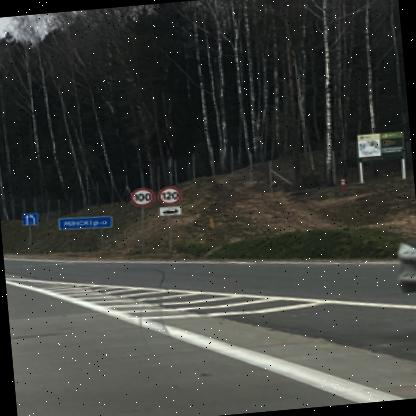speedlimit: (126, 184, 153, 206), (158, 184, 181, 202)
